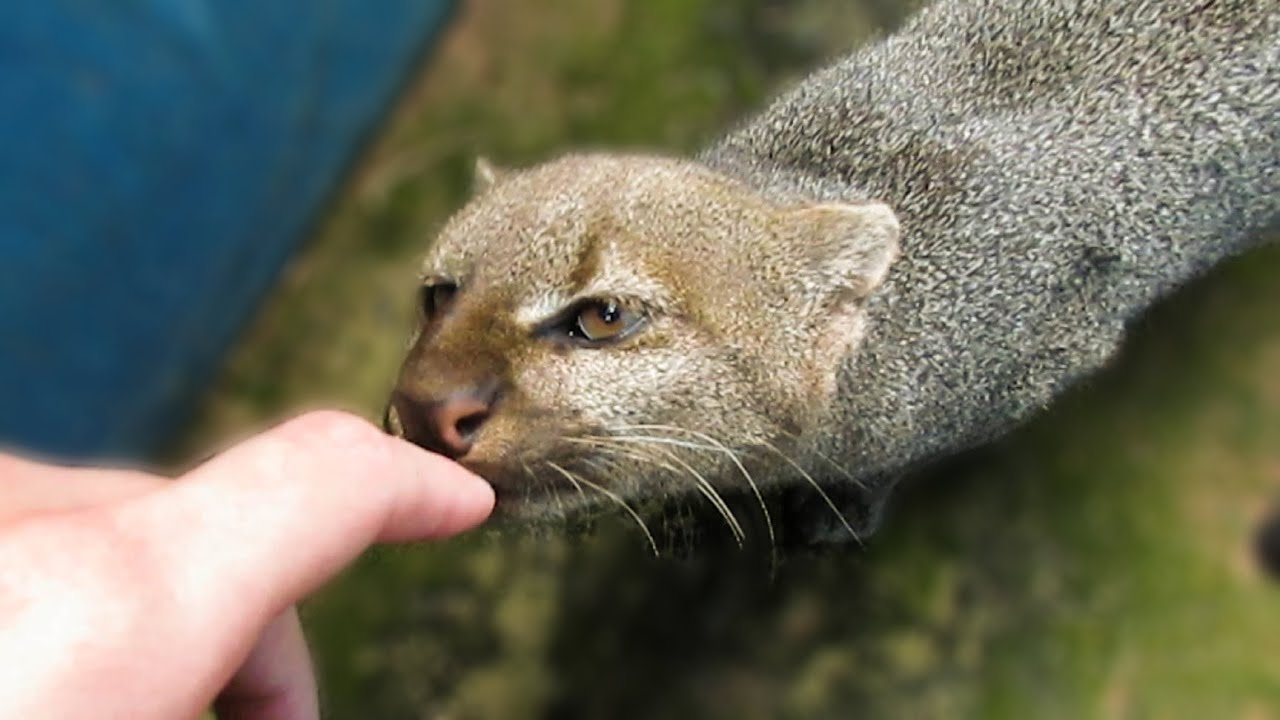Jaguarundi: (376, 36, 1216, 539)
